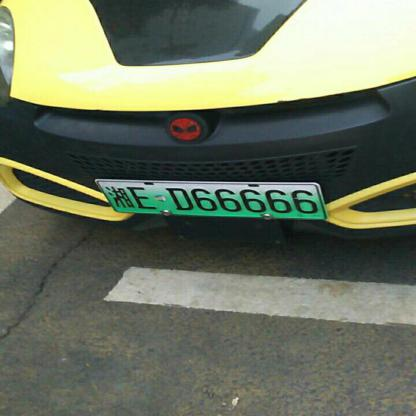lp: (94, 179, 328, 218)
